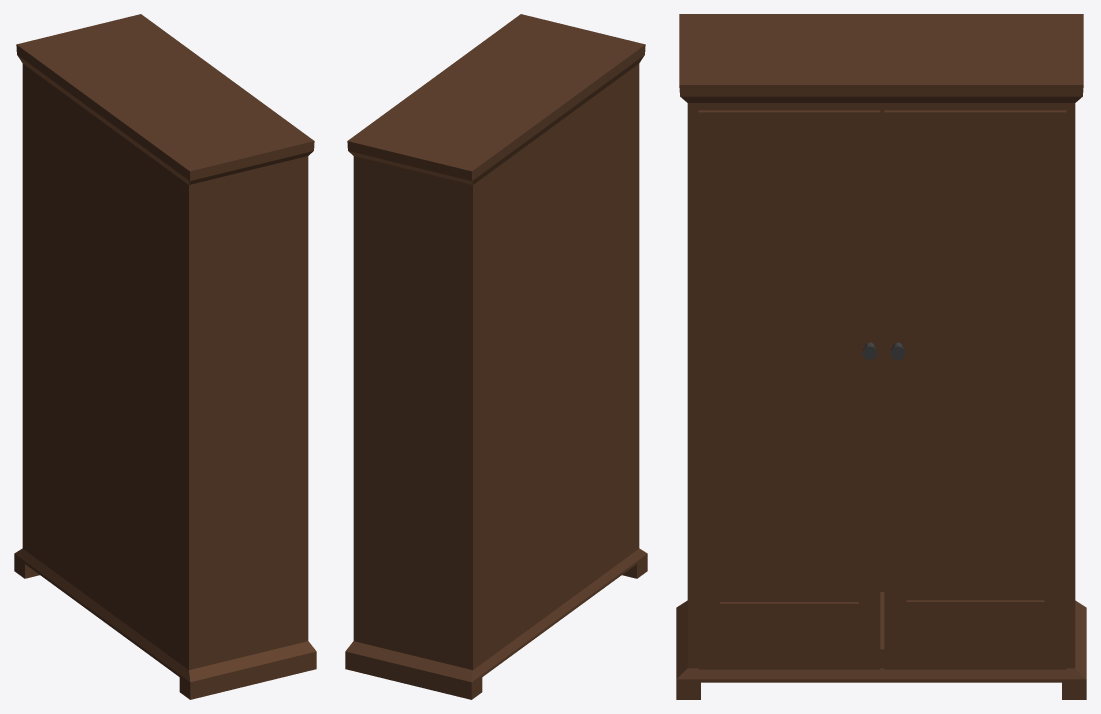
File: schrank.fbx
The picture shows the model from 3 angles, left to right: view 1: azimuth 30°, elevation 25°; view 2: azimuth 150°, elevation 25°; view 3: azimuth 270°, elevation 25°; orthographic projection. The views are drawn at different scales.
Parts seen in each view (by area): view 1: Cube; view 2: Cube; view 3: Cube.001, Cube.002, Cube.
Part boxes in pixels (x1,y1,x2,y2): Cube: (14, 14, 316, 699); Cube: (345, 14, 647, 699); Cube.001: (698, 110, 880, 669); Cube.002: (884, 110, 1066, 669); Cube: (676, 14, 1086, 699).
Bounding box in the file's own units: 699 × 2567 × 1552.
